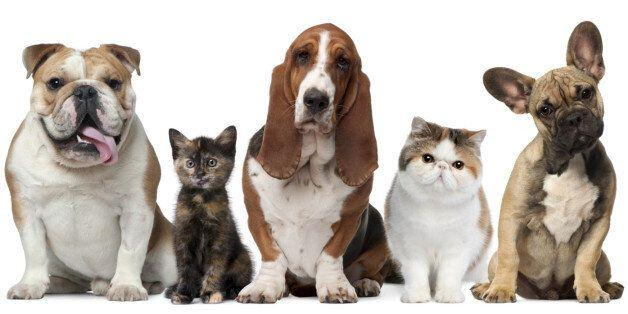cats: (385, 117, 494, 306), (167, 125, 244, 304)
dogs: (241, 14, 393, 306), (3, 38, 167, 305), (479, 16, 623, 307)
